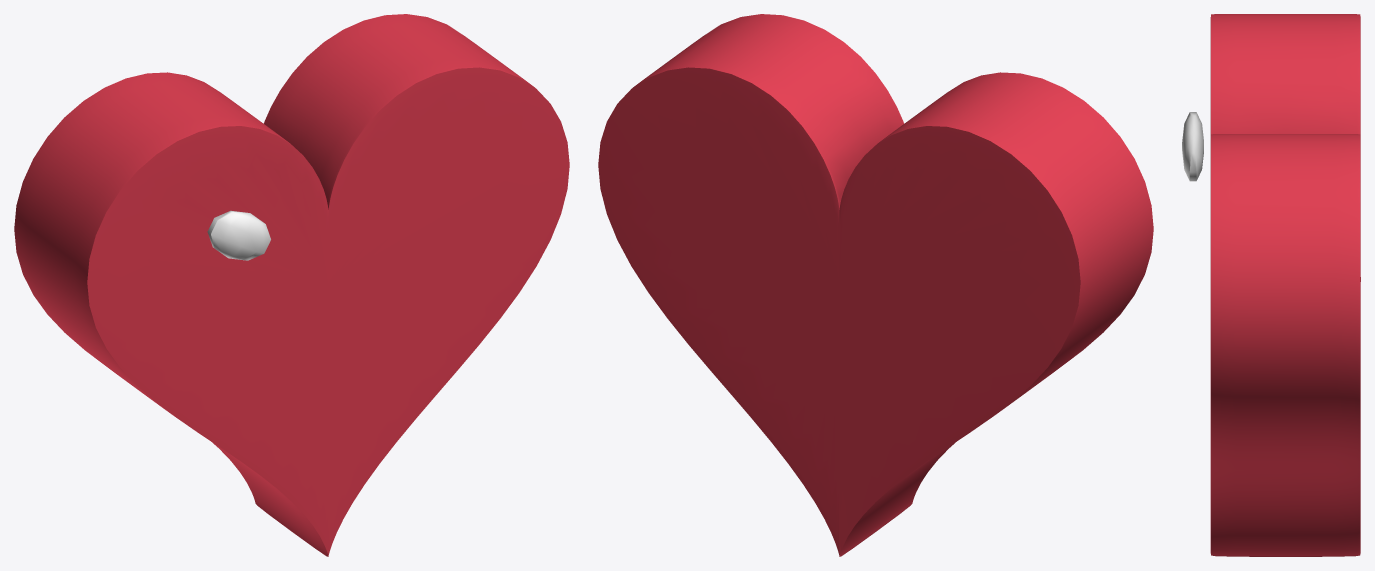
File: icon_heart.glb
The picture shows the model from 3 angles, left to right: view 1: azimuth 30°, elevation 25°; view 2: azimuth 150°, elevation 25°; view 3: azimuth 270°, elevation 25°; orthographic projection. The views are drawn at different scales.
Parts seen in each view (by area): view 1: Heart; view 2: Heart; view 3: Heart.
Boxes of the visible parts, x1,y1,x2,y2 form: Heart: (14,14,569,556); Heart: (598,14,1153,556); Heart: (1182,14,1360,556).
Bounding box in the file's own units: 0.9878 × 0.896 × 0.309.
1 material, 1 textured.
